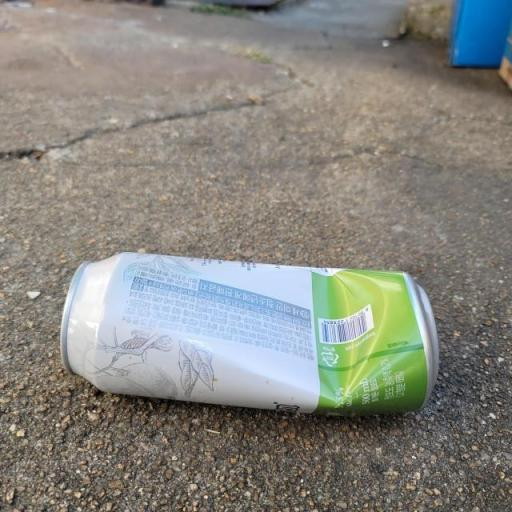metal: (38, 222, 458, 452)
